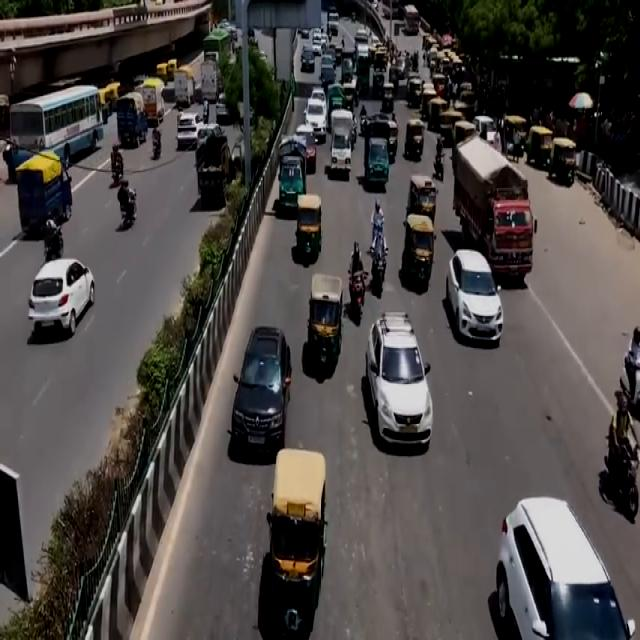BUS: (12, 87, 106, 170)
MOTORCYCLE: (349, 270, 366, 328), (372, 251, 388, 300)
TRUCK: (453, 140, 536, 288)
